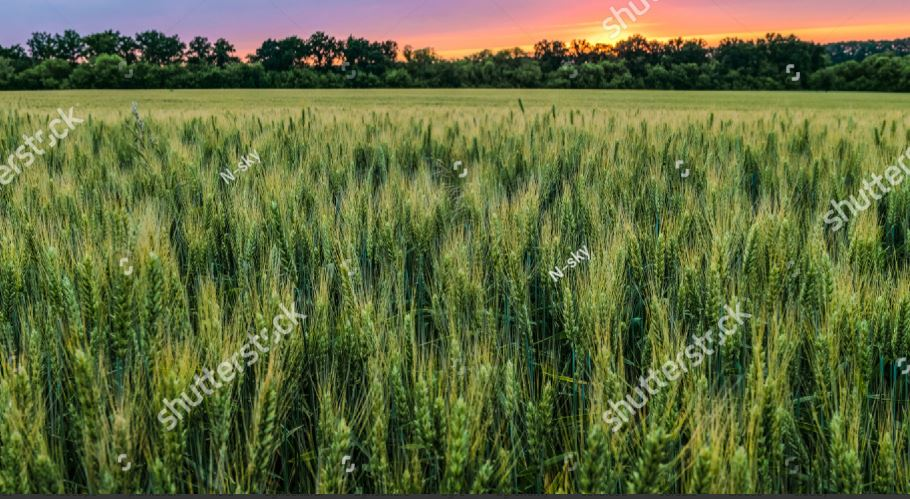Wheat: (331, 163, 595, 481)
